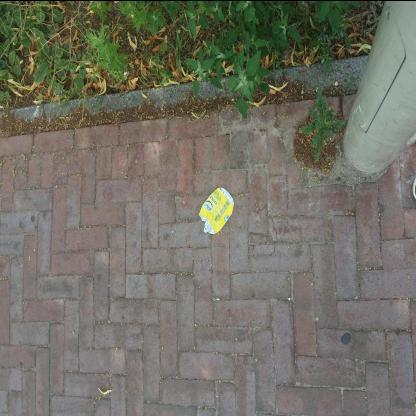metal: (200, 187, 236, 236)
